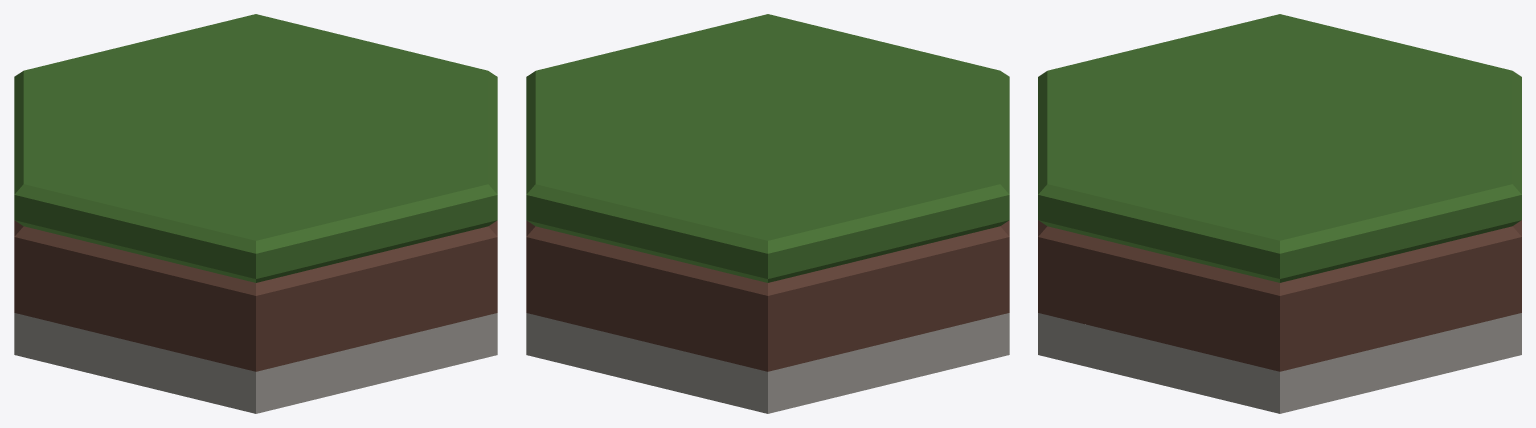
File: Hexagon Grass.fbx
The picture shows the model from 3 angles, left to right: view 1: azimuth 30°, elevation 25°; view 2: azimuth 150°, elevation 25°; view 3: azimuth 270°, elevation 25°; orthographic projection.
Visible parts, largest first — view 1: Hexagon_Grass_Top, Hexagon_Dirt_Top, Hexagon_Stone, Hexagon_Dirt_Bottom; view 2: Hexagon_Grass_Top, Hexagon_Dirt_Top, Hexagon_Stone, Hexagon_Dirt_Bottom; view 3: Hexagon_Grass_Top, Hexagon_Dirt_Top, Hexagon_Dirt_Bottom, Hexagon_Stone.
Part boxes in pixels (x1,y1,x2,y2): Hexagon_Grass_Top: (14,14,497,282); Hexagon_Dirt_Top: (14,220,497,329); Hexagon_Stone: (14,313,497,413); Hexagon_Dirt_Bottom: (14,270,497,371); Hexagon_Grass_Top: (526,14,1009,282); Hexagon_Dirt_Top: (526,220,1009,329); Hexagon_Stone: (526,313,1009,413); Hexagon_Dirt_Bottom: (526,270,1009,371); Hexagon_Grass_Top: (1038,14,1521,282); Hexagon_Dirt_Top: (1038,220,1521,329); Hexagon_Dirt_Bottom: (1038,270,1521,371); Hexagon_Stone: (1038,313,1521,413).
Bounding box in the file's own units: 12 × 4 × 10.4.
